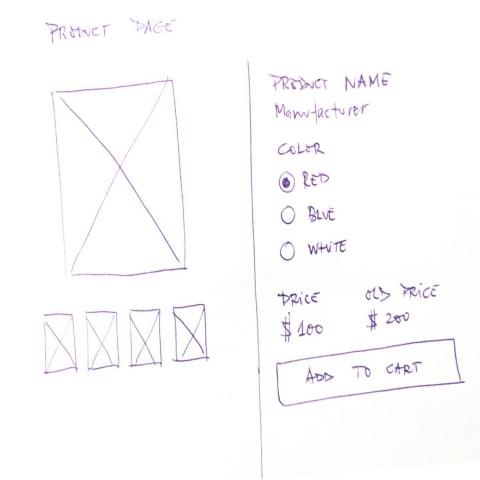Button: (275, 337, 466, 409)
Image: (49, 78, 189, 279), (42, 310, 80, 377), (85, 309, 122, 372), (128, 307, 165, 370), (173, 303, 210, 366)
Radio Button: (279, 238, 350, 263), (280, 203, 339, 227), (278, 168, 333, 193)
